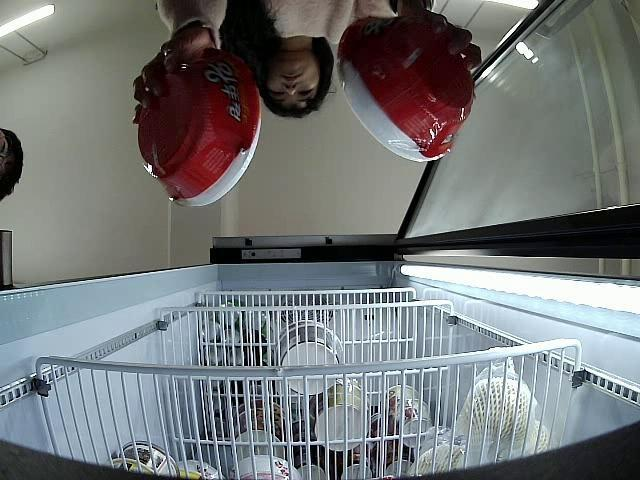10_wangTtukkeong: (337, 15, 474, 162), (137, 51, 262, 206)
